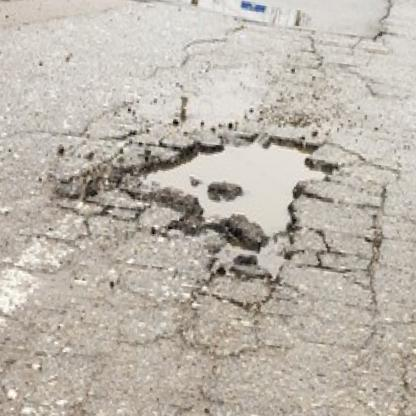pothole: (122, 112, 330, 274)
